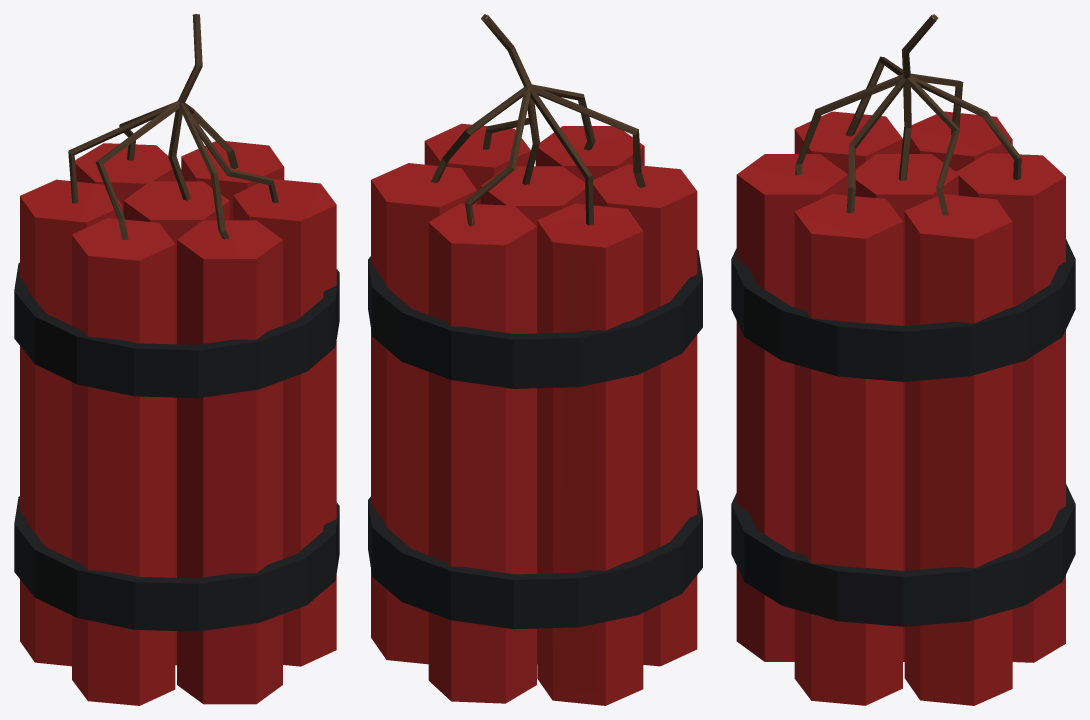
File: Phase4_dynamite.glb
The picture shows the model from 3 angles, left to right: view 1: azimuth 30°, elevation 25°; view 2: azimuth 150°, elevation 25°; view 3: azimuth 270°, elevation 25°; orthographic projection. The views are drawn at different scales.
Parts seen in each view (by area): view 1: SurveyDynamite; view 2: SurveyDynamite; view 3: SurveyDynamite.
Boxes of the visible parts, bbox=[...] form: SurveyDynamite: bbox=[14, 14, 339, 705]; SurveyDynamite: bbox=[368, 14, 702, 705]; SurveyDynamite: bbox=[731, 14, 1075, 705].
Bounding box in the file's own units: 0.8031 × 1.66 × 0.8031.
1 material, 1 textured.
